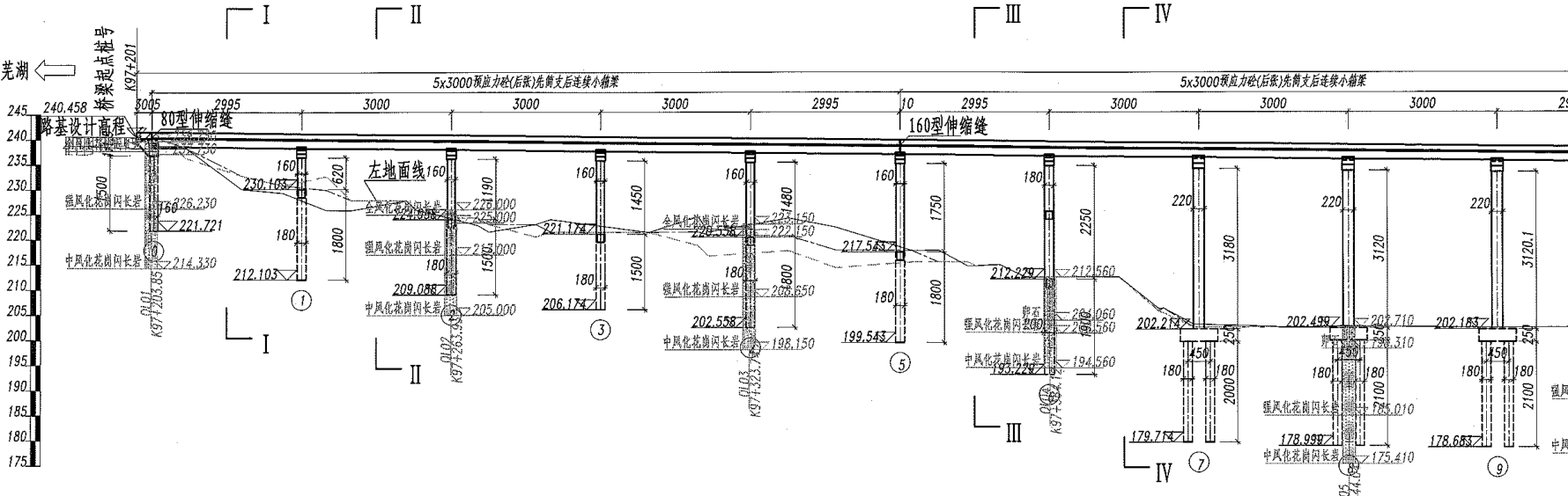A: (131, 61, 1568, 83)
B: (888, 69, 1568, 100), (145, 71, 912, 97)
C: (1424, 154, 1525, 488), (1274, 151, 1372, 487), (1125, 150, 1224, 481), (981, 148, 1069, 407), (834, 144, 921, 378), (685, 143, 768, 364), (537, 143, 618, 346), (229, 141, 320, 318), (388, 142, 468, 329)
